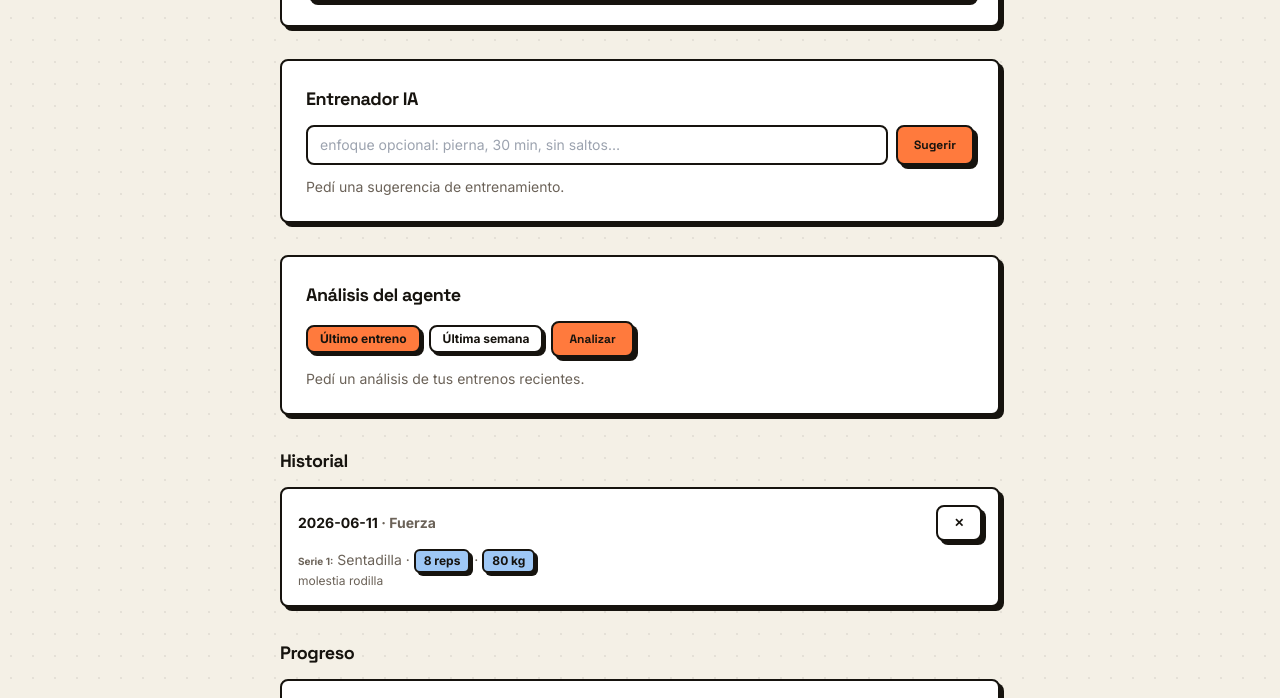
Test: EntrenamientoPage › Analizar genera y muestra el análisis del agente
(page scrolled)
Click the button "Analizar". click: {"x": 593, "y": 339}
box: [552,321,634,357]
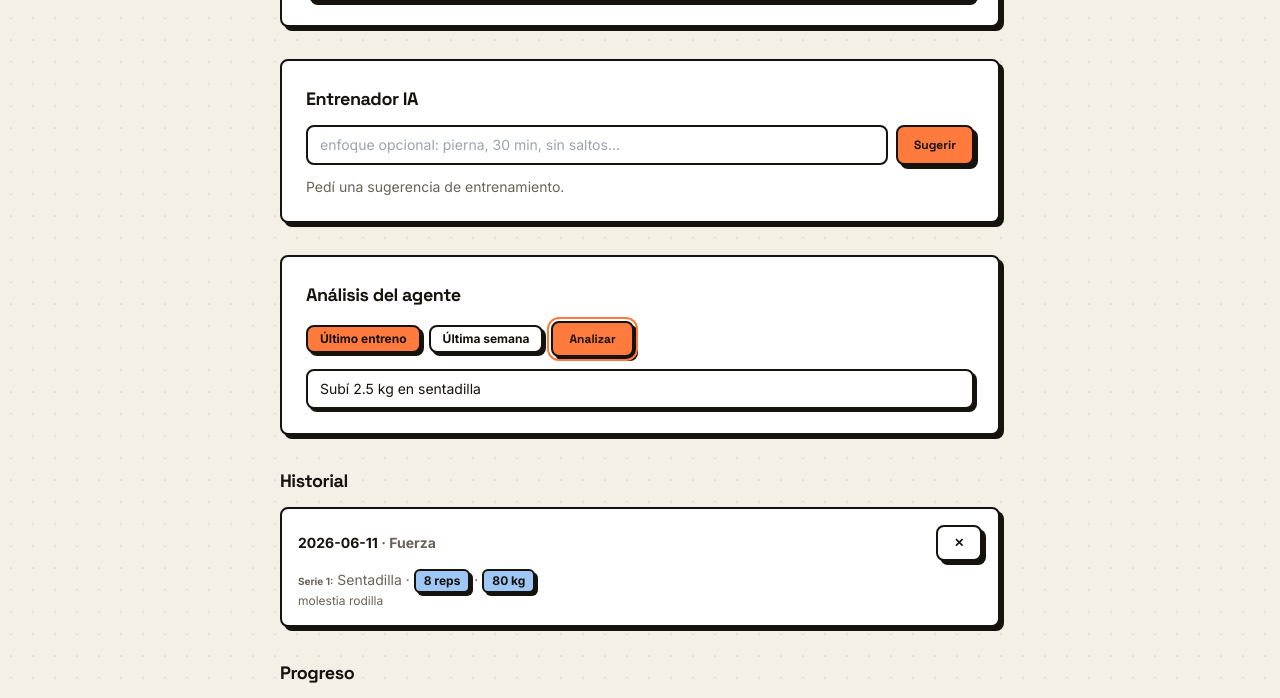
Result: the text "Subí 2.5 kg en sentadilla" is shown at [320,380,481,397]
